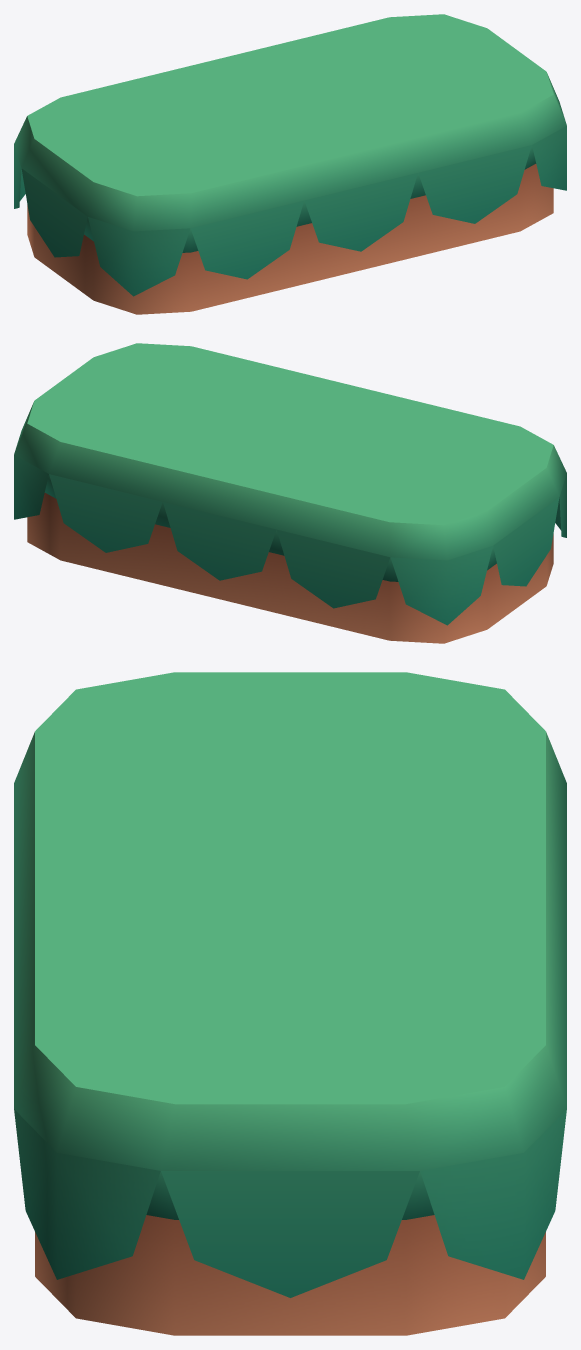
The model's file is block-grass-overhang-low-long.glb.
The picture shows the model from 3 angles, top to bottom: view 1: azimuth 30°, elevation 25°; view 2: azimuth 150°, elevation 25°; view 3: azimuth 270°, elevation 25°; orthographic projection. The views are drawn at different scales.
Parts seen in each view (by area): view 1: block-grass-overhang-low-long; view 2: block-grass-overhang-low-long; view 3: block-grass-overhang-low-long.
Boxes of the visible parts, <box> form: block-grass-overhang-low-long: <box>14,14,566,314</box>; block-grass-overhang-low-long: <box>14,343,566,643</box>; block-grass-overhang-low-long: <box>14,672,566,1335</box>.
Bounding box in the file's own units: 2.08 × 0.5 × 1.08.
Materials: 1 (1 with a texture image).
